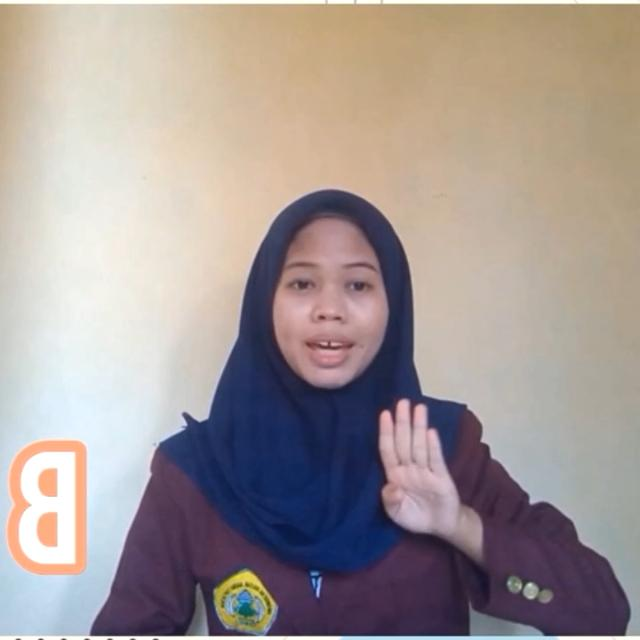B: (378, 399, 464, 537)
